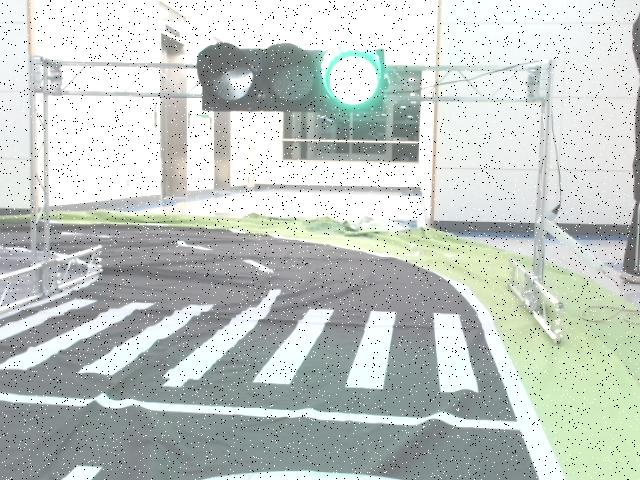crosswalk: (0, 295, 482, 394)
traffic light-green-: (196, 42, 387, 114)
